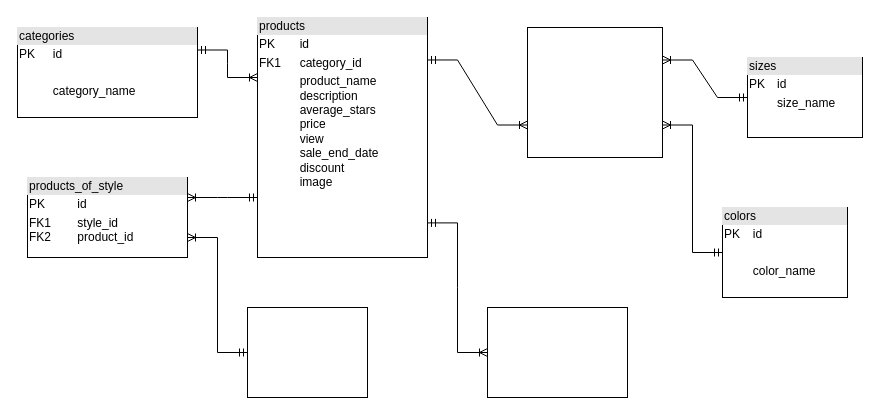
This 880x415 diagram has some shape labels left out. Here are the shapes that lost their labels. From the top down, the centre of each, then its label:
At point 594,92: "product_details PK id FK1 FK2 FK3 size_id product_id color_id quantity".
At point 307,352: "styles PK id style_name".
At point 557,352: "product_images PK id FK1 product_id image_url".
